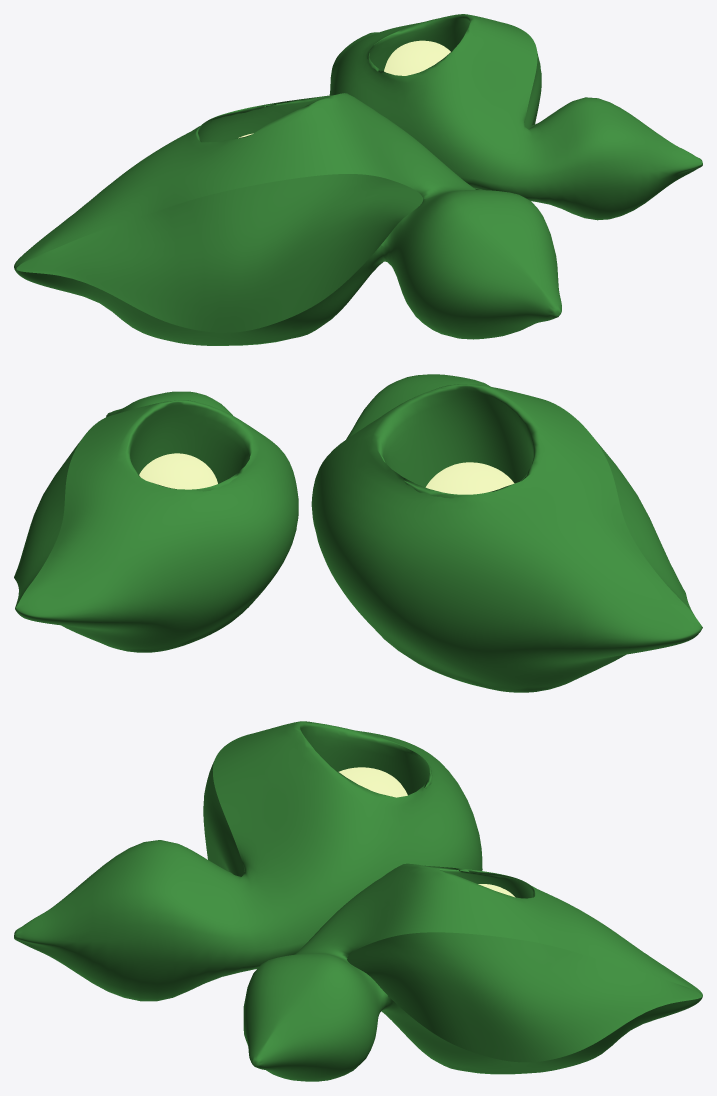
File: butterflyAg.fbx
3 views of the same model, one above another, from view 1: azimuth 30°, elevation 25°; view 2: azimuth 150°, elevation 25°; view 3: azimuth 270°, elevation 25° (orthographic). The views are drawn at different scales.
Parts seen in each view (by area): view 1: 圆锥蝴蝶; view 2: 圆锥蝴蝶; view 3: 圆锥蝴蝶.
Boxes of the visible parts, left/top/right/bottom form: 圆锥蝴蝶: left=14, top=14, right=702, bottom=345; 圆锥蝴蝶: left=14, top=374, right=702, bottom=692; 圆锥蝴蝶: left=14, top=721, right=702, bottom=1081.
Size of the model in its own units: 2.27 by 0.7932 by 2.05.
